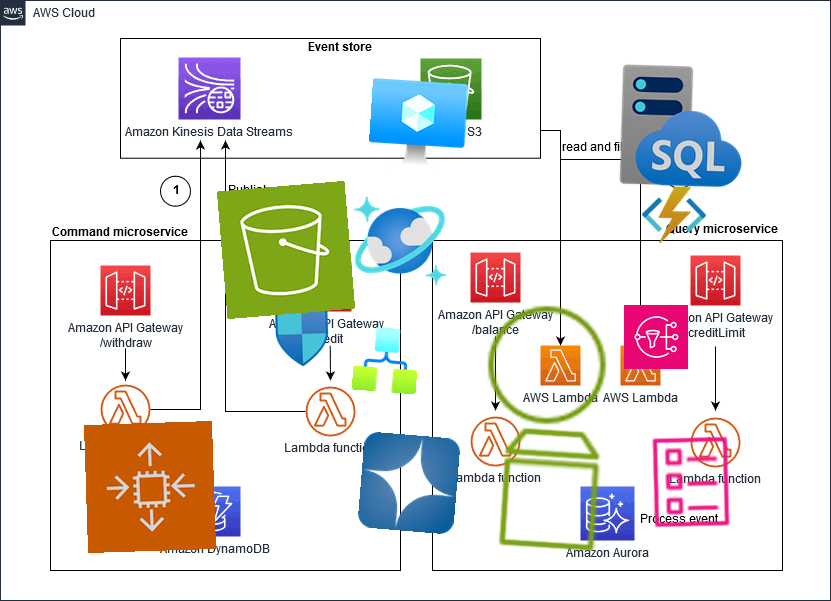aws_amazon_ec2_auto_scaling: (83, 420, 217, 554)
aws_amazon_simple_notification_service: (623, 304, 689, 370)
aws_amazon_simple_storage_service: (216, 180, 356, 320)
aws_cloudformation_template: (640, 432, 740, 532)
aws_elastic_block_store_volume: (482, 420, 620, 558)
aws_simple_storage_service_object: (482, 300, 612, 430)
azure_cosmos_db: (350, 191, 450, 291)
azure_function_apps: (641, 182, 707, 248)
azure_logic_apps: (351, 325, 421, 395)
azure_network_security_groups: (268, 300, 336, 368)
azure_openai: (357, 431, 461, 535)
azure_sql_managed_instance: (616, 60, 748, 192)
azure_virtual_machine: (367, 77, 469, 179)
